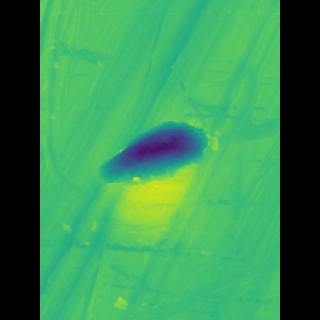Loch: (76, 192, 197, 319), (111, 113, 206, 189)
